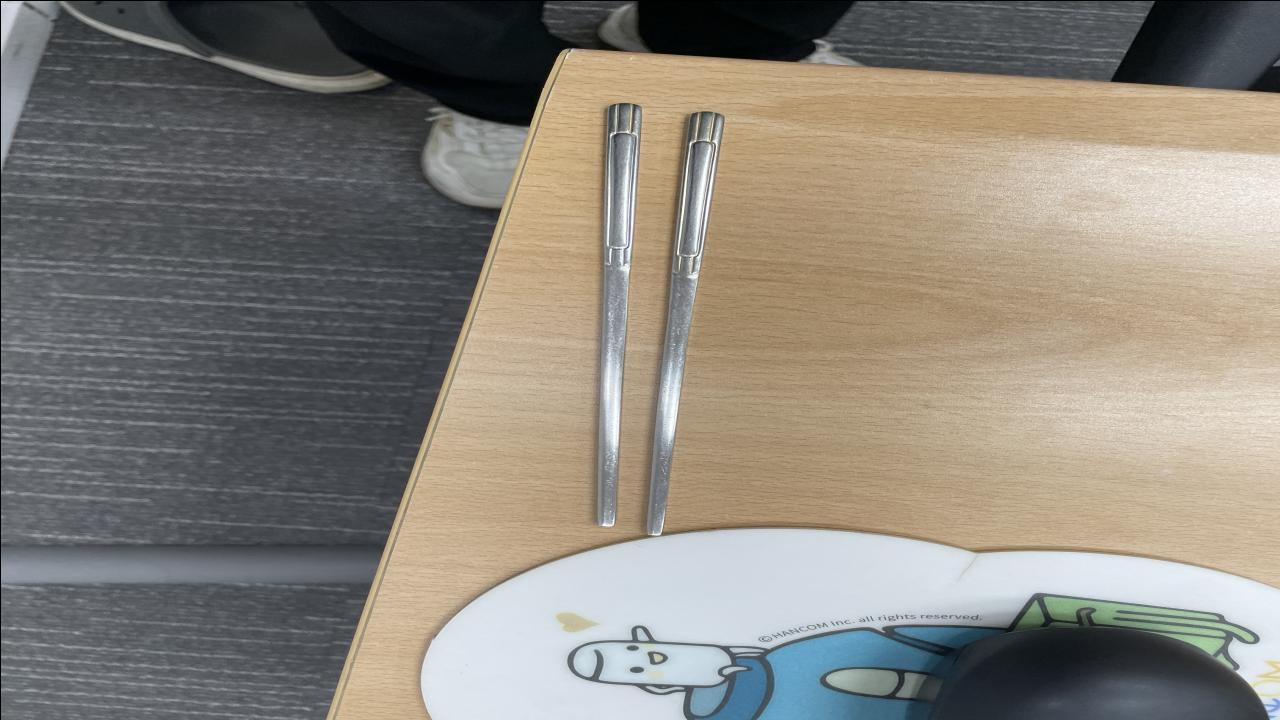chopstick: (600, 102, 729, 534)
